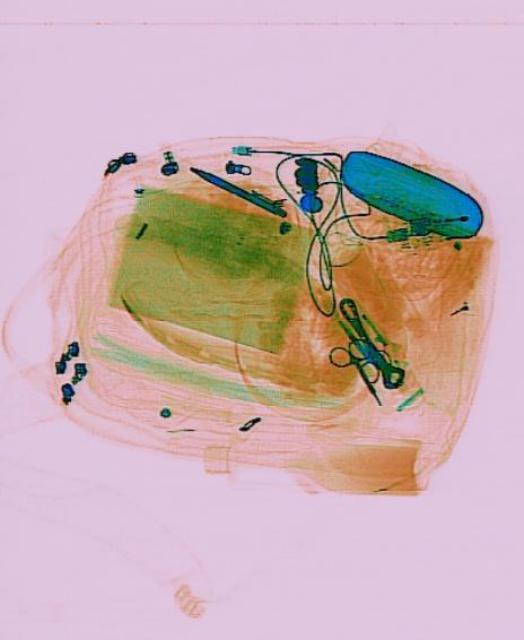Scissors: (323, 327, 394, 415)
